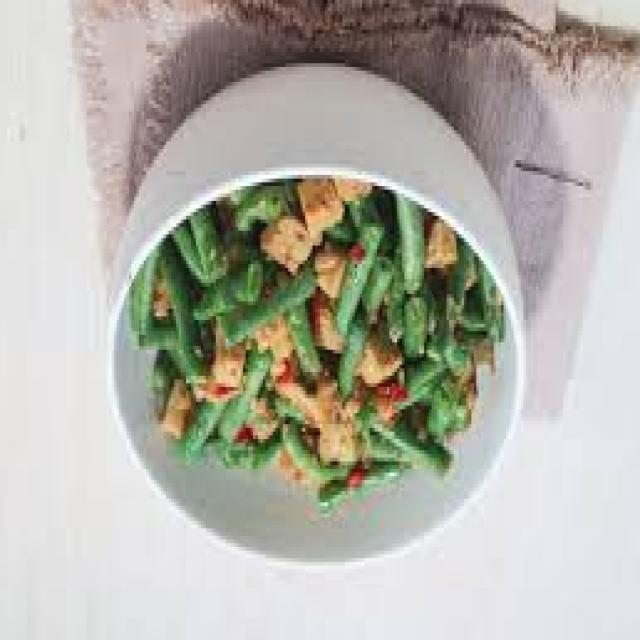kacang_panjang: (120, 165, 520, 518)
